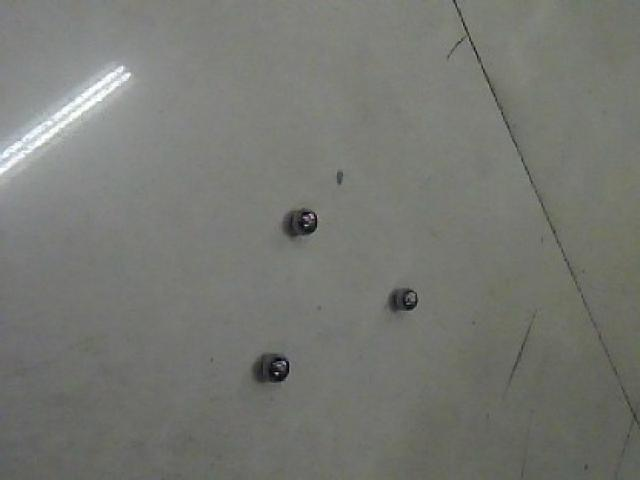steel-ball: (268, 185, 322, 246), (248, 328, 294, 398), (383, 266, 423, 317)
